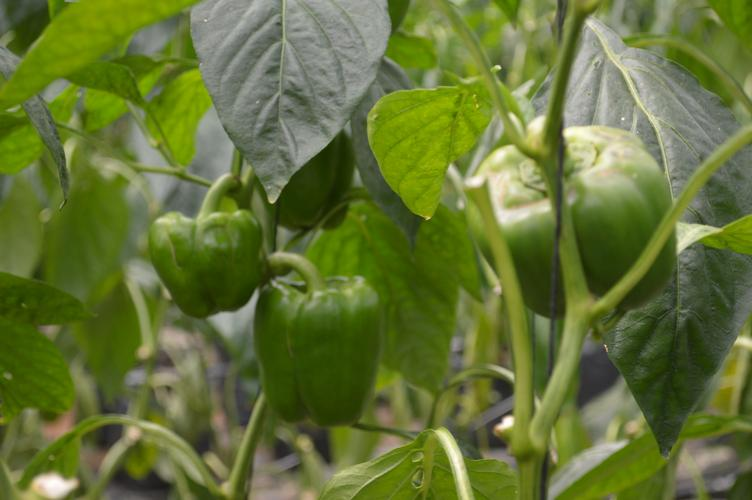BellPepper: (470, 126, 675, 314), (251, 273, 379, 427), (145, 208, 264, 319), (252, 124, 360, 230)
